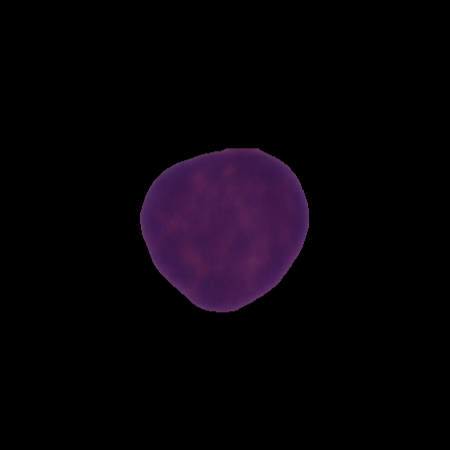HEM: (137, 144, 312, 315)
